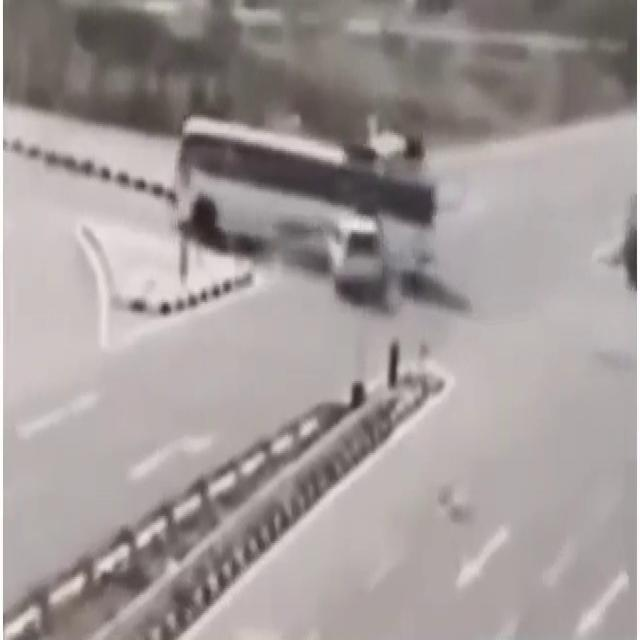accident: (174, 114, 446, 304)
